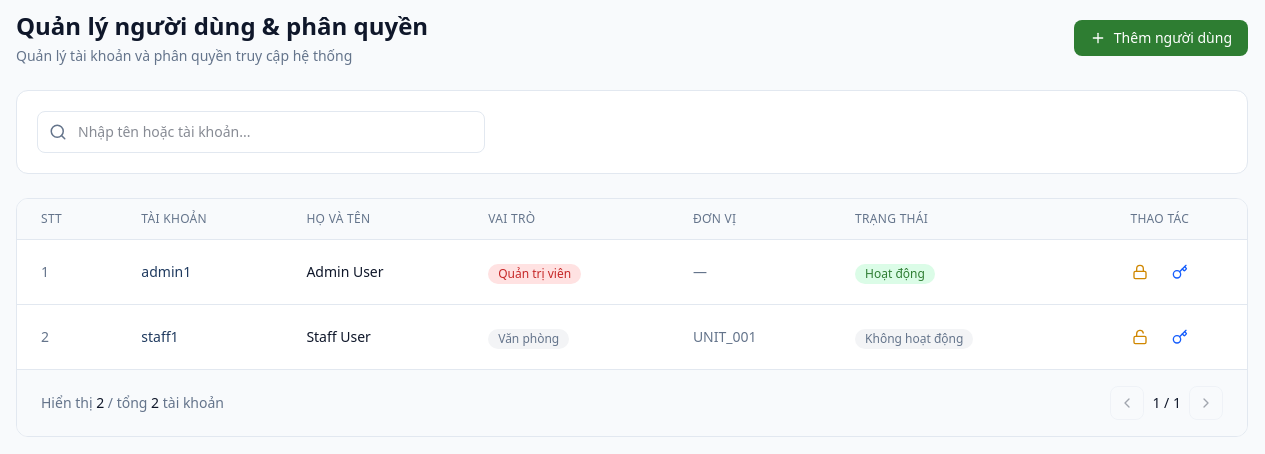
Test: UserManagementPage › search filters user list
Expected: the table with test id "user-table" is shown, [17, 199, 1247, 369]
Type "admin" into the field with test id "user-search-input" at (261, 132), box [37, 111, 485, 153]
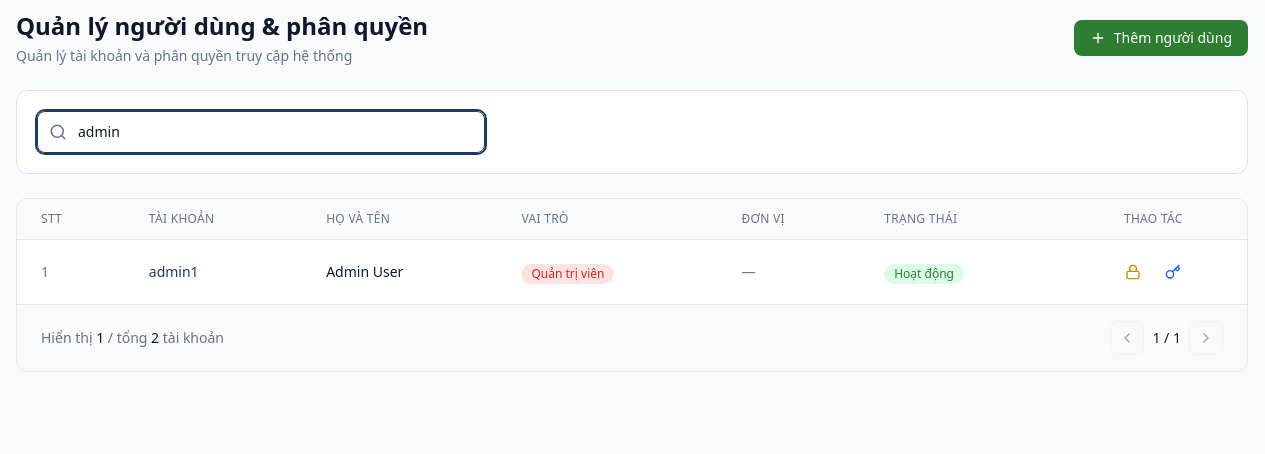
Expected: the text "admin1" is shown, [125, 240, 302, 304]
Now the text "staff1" is gone
